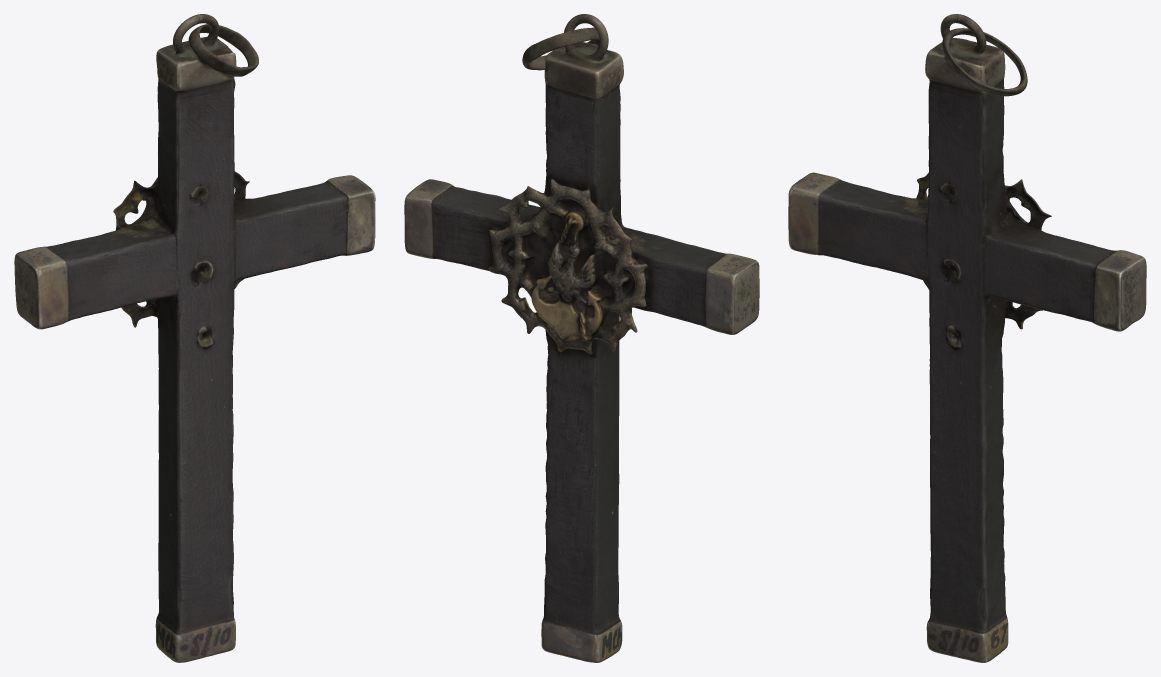
The model's file is Cross.glb.
3 views of the same model, side by side, from view 1: azimuth 30°, elevation 25°; view 2: azimuth 150°, elevation 25°; view 3: azimuth 330°, elevation 25° (orthographic).
Visible parts, largest first — view 1: Object_2; view 2: Object_2; view 3: Object_2.
Boxes of the visible parts, x1,y1,x2,y2 form: Object_2: [14, 14, 375, 662]; Object_2: [404, 14, 759, 662]; Object_2: [788, 14, 1146, 662].
Size of the model in its own units: 1.7 by 3.07 by 0.357.
1 material, 1 textured.
